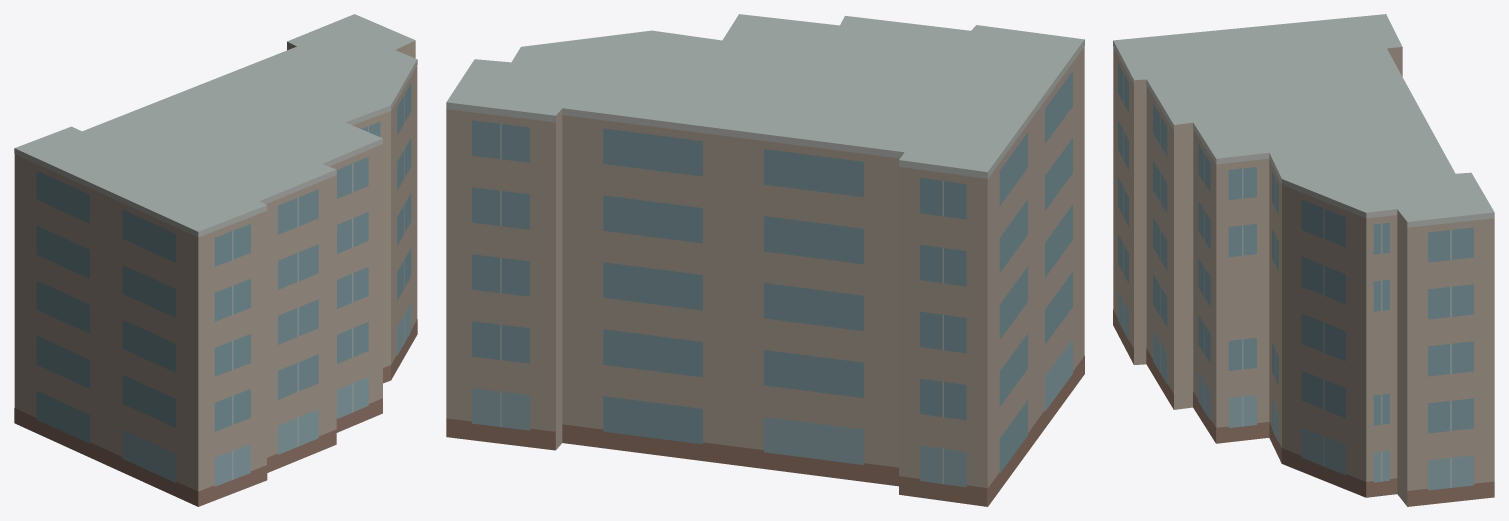
File: survey-upis-32770081.glb
The picture shows the model from 3 angles, left to right: view 1: azimuth 30°, elevation 25°; view 2: azimuth 150°, elevation 25°; view 3: azimuth 270°, elevation 25°; orthographic projection. The views are drawn at different scales.
Parts seen in each view (by area): view 1: survey-upis-32770081.tmp; view 2: survey-upis-32770081.tmp; view 3: survey-upis-32770081.tmp.
Part boxes in pixels (box(x1,y1,x2,y2)): survey-upis-32770081.tmp: box(14, 14, 417, 506); survey-upis-32770081.tmp: box(446, 14, 1084, 506); survey-upis-32770081.tmp: box(1113, 14, 1494, 506).
Size of the model in its own units: 18.88 by 12.05 by 14.63.
